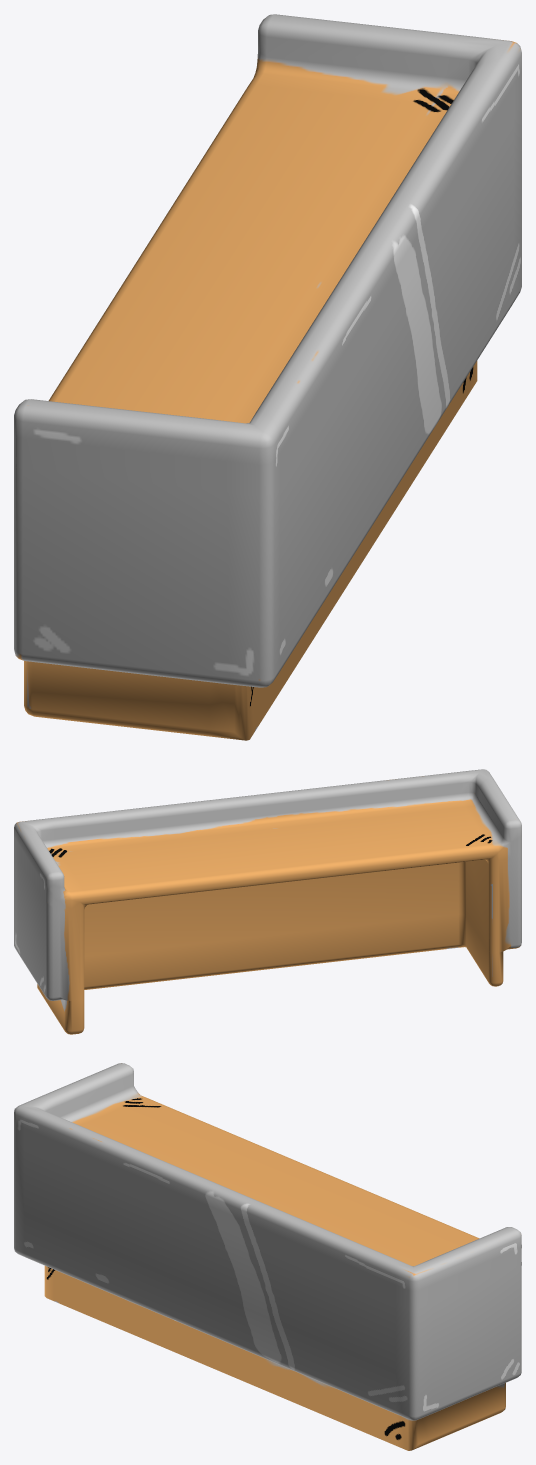
File: F_Resepsiyon 1.fbx
3 views of the same model, one above another, from view 1: azimuth 30°, elevation 25°; view 2: azimuth 150°, elevation 25°; view 3: azimuth 270°, elevation 25° (orthographic). The views are drawn at different scales.
Parts seen in each view (by area): view 1: Resepsiyon2.001; view 2: Resepsiyon2.001; view 3: Resepsiyon2.001.
Boxes of the visible parts, x1,y1,x2,y2 form: Resepsiyon2.001: (14,14,521,740); Resepsiyon2.001: (14,769,521,1034); Resepsiyon2.001: (14,1063,521,1450).
Bounding box in the file's own units: 204 × 83.91 × 204.
